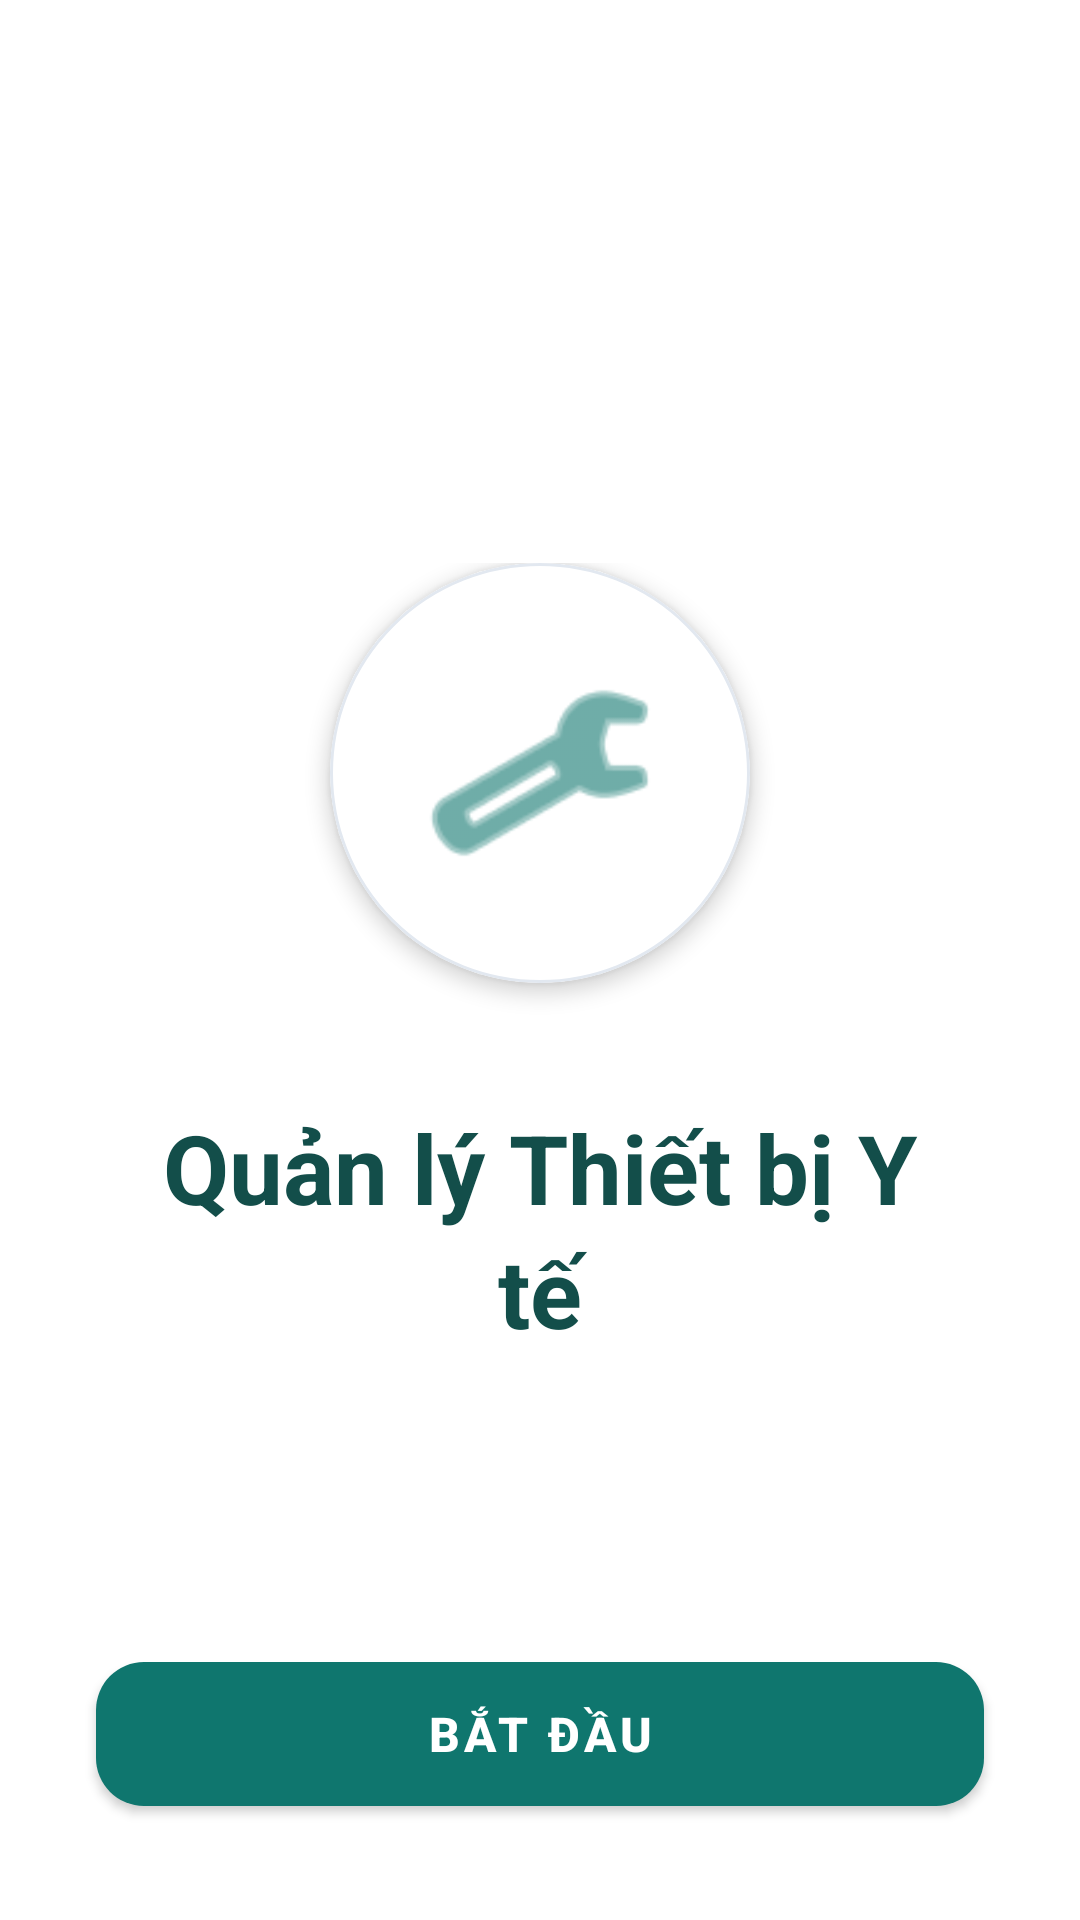

Icons on this 1080×1920 Android screen, each with its box as (x1, y1, x2, y2):
manage: (432, 690, 648, 856)
